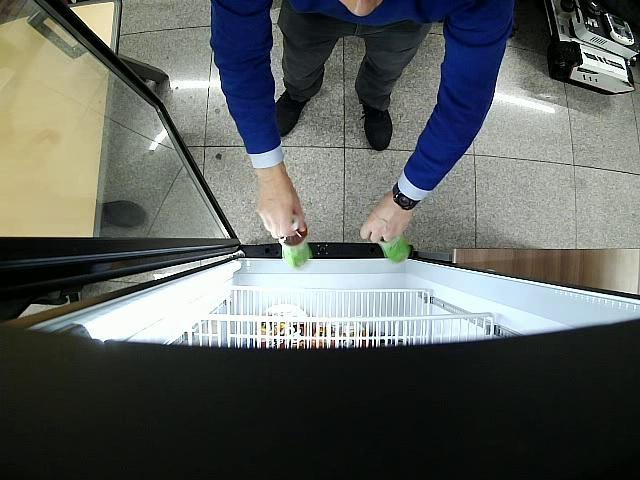19_17cha: (282, 215, 310, 268), (380, 233, 408, 263)
